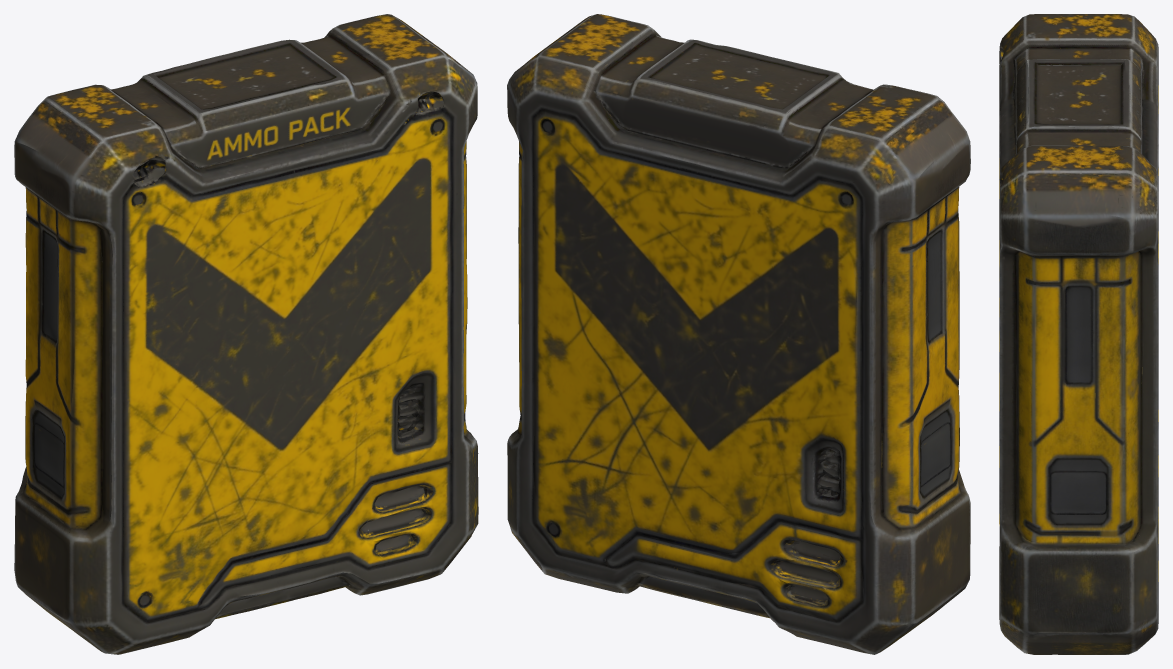
File: Meshy_AI_Futuristic_Cyberpunk__0806000643_texture.fbx
3 views of the same model, side by side, from view 1: azimuth 30°, elevation 25°; view 2: azimuth 150°, elevation 25°; view 3: azimuth 270°, elevation 25° (orthographic). The views are drawn at different scales.
Visible parts, largest first — view 1: Mesh0; view 2: Mesh0; view 3: Mesh0.
Boxes of the visible parts, x1,y1,x2,y2 form: Mesh0: (14, 14, 478, 654); Mesh0: (507, 14, 970, 654); Mesh0: (999, 14, 1158, 654).
Bounding box in the file's own units: 165 × 201 × 59.49.
Materials: 1 (1 with a texture image).
